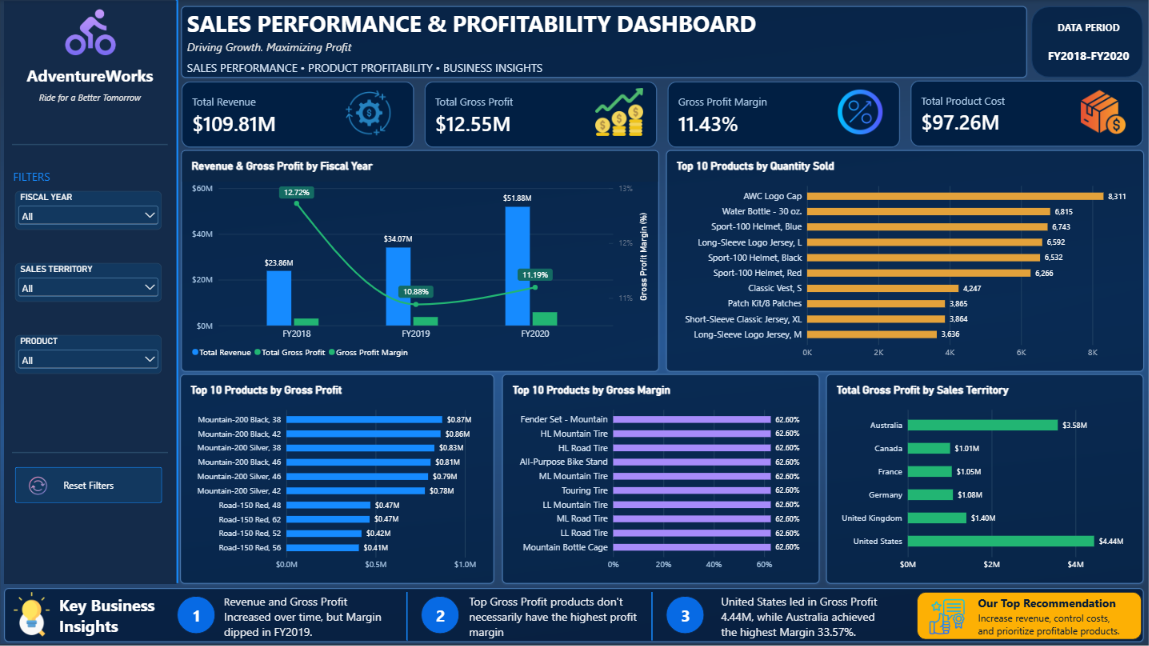

The dashboard page shown, as its layout file describes it:
{"tool":"powerbi","page":{"name":"Page 1","canvas":[1920,1080],"ordinal":0},"visuals":[{"type":"shape","title":"Side Bar","box":[7,1.7,288,973.5],"z":0,"group":"g9"},{"type":"shape","box":[301.4,10,1412.6,120.2],"z":0,"group":"g7"},{"type":"actionButton","box":[25,780,245.5,60],"z":0,"group":"g8"},{"type":"shape","box":[6.7,981.8,1903.5,90.2],"z":0,"group":"g6"},{"type":"shape","box":[1531.1,988.4,375.1,79.5],"z":0,"group":"g1"},{"type":"textbox","box":[97.9,992.6,182.3,70.3],"z":0,"group":"g5"},{"type":"textbox","box":[375,992.6,280.8,75.7],"z":0,"group":"g2"},{"type":"shape","box":[703.2,996.2,63.8,63.1],"z":0,"group":"g3"},{"type":"shape","box":[1111.7,996.2,63.8,63.1],"z":0,"group":"g4"},{"type":"textbox","box":[312,65.7,1390,30],"z":1000,"group":"g7"},{"type":"cardVisual","fields":{"Data":["Sales_data (2).Total Revenue"]},"box":[301.4,134.5,390,112],"z":1000},{"type":"image","box":[35,793.7,56.8,36],"z":1000,"group":"g8"},{"type":"group","id":"g1","title":"Group 1","box":[1531.1,988.4,375.1,79.5],"z":1000,"group":"g6"},{"type":"image","box":[11.5,988.9,82.2,74.5],"z":1000,"group":"g5"},{"type":"textbox","box":[1633.2,992.7,250.7,26.5],"z":1000,"group":"g1"},{"type":"shape","box":[296.2,996.2,63.8,63.1],"z":1000,"group":"g2"},{"type":"textbox","box":[717.8,1008.8,35.1,39.7],"z":1000,"group":"g3"},{"type":"textbox","box":[1126.3,1008.8,35.1,39.7],"z":1000,"group":"g4"},{"type":"textbox","box":[311.4,100,1390,25],"z":2000,"group":"g7"},{"type":"cardVisual","fields":{"Data":["Sum(Sales_data (2).Total Product Cost)"]},"box":[1520,134,390,112],"z":2000},{"type":"group","id":"g2","title":"Group 2","box":[296.2,992.6,359.6,75.7],"z":2000,"group":"g6"},{"type":"textbox","box":[783.4,992.6,280.8,75.7],"z":2000,"group":"g3"},{"type":"textbox","box":[1202.9,992.6,280.8,75.7],"z":2000,"group":"g4"},{"type":"textbox","box":[311.2,1008.8,35.1,39.7],"z":2000,"group":"g2"},{"type":"textbox","box":[1633.2,1019.9,251.2,43.1],"z":2000,"group":"g1"},{"type":"textbox","box":[311.4,13.3,1390,51.8],"z":3000,"group":"g7"},{"type":"cardVisual","fields":{"Data":["Sales_data (2).Total Gross Profit"]},"box":[707.6,134.5,390,112],"z":3000},{"type":"group","id":"g3","title":"Group 3","box":[703.2,992.6,361,75.7],"z":3000,"group":"g6"},{"type":"image","box":[1543.6,999.7,73.6,58.9],"z":3000,"group":"g1"},{"type":"cardVisual","fields":{"Data":["Sales_data (2).Gross Profit Margin"]},"box":[1113.8,134.5,390,112],"z":4000},{"type":"group","id":"g4","title":"Group 4","box":[1111.7,992.6,372,75.7],"z":4000,"group":"g6"},{"type":"lineClusteredColumnComboChart","title":"Revenue & Gross Profit by Fiscal Year","fields":{"Category":["Date_data.Fiscal Year"],"Y":["Sales_data (2).Total Revenue","Sales_data (2).Total Gross Profit"],"Y2":["Sales_data (2).Gross Profit Margin"]},"box":[301.4,250,798,370],"z":5000},{"type":"group","id":"g5","title":"Group 5","box":[11.5,988.9,268.7,74.5],"z":5000,"group":"g6"},{"type":"clusteredBarChart","title":"Top 10 Products by Gross Profit","fields":{"Category":["Product_data.Product"],"Y":["Sales_data (2).Total Gross Profit"]},"box":[301,624.4,525,350],"z":6000},{"type":"shape","box":[669,988,20,80.8],"z":6000,"group":"g6"},{"type":"clusteredBarChart","title":"Top 10 Products by Gross Margin","fields":{"Category":["Product_data.Product"],"Y":["Sales_data (2).Total Gross Margin"]},"box":[838,624.4,530,350],"z":7000},{"type":"shape","box":[1079.2,988,20,80.8],"z":7000,"group":"g6"},{"type":"clusteredBarChart","title":"Top 10 Products by Quantity Sold","fields":{"Category":["Product_data.Product"],"Y":["Sales_data (2).Total Quantity Sold"]},"box":[1112,250,798,370],"z":8000},{"type":"shape","title":"Vertical Line","box":[287.2,0,16.7,973.5],"z":9000},{"type":"textbox","box":[25,106.3,250,41.4],"z":10000,"group":"g9"},{"type":"textbox","box":[25,151.2,250,28],"z":11000,"group":"g9"},{"type":"shape","box":[1721.8,10,187.3,120],"z":12000},{"type":"textbox","box":[1743.6,34.5,149.1,36.4],"z":13000},{"type":"textbox","box":[1743.6,80,149.1,34.5],"z":14000},{"type":"clusteredBarChart","title":"Total Gross Profit by Sales Territory","fields":{"Category":["Territory_data.Country"],"Y":["Sales_data (2).Total Gross Profit"]},"box":[1380,624.5,530,350],"z":15000},{"type":"image","box":[984,147,100,80],"z":16000},{"type":"image","box":[1386,147,100,80],"z":17000},{"type":"image","box":[1792,147,100,80],"z":18000},{"type":"image","box":[564,148,100,80],"z":19000},{"type":"image","box":[25,11.7,252.1,91.8],"z":20000,"group":"g9"},{"type":"group","id":"g6","title":"Group 6","box":[6.7,981.8,1903.5,90.2],"z":21000},{"type":"group","id":"g7","title":"Group 7","box":[301.4,10,1412.6,120.2],"z":22000},{"type":"slicer","fields":{"Values":["Date_data.Fiscal Year"]},"box":[25,319.2,245,65],"z":23000,"group":"g9"},{"type":"textbox","box":[21.7,281.4,68.5,25],"z":24000,"group":"g9"},{"type":"slicer","fields":{"Values":["Product_data.Product"]},"box":[25,559.4,245,65],"z":25000,"group":"g9"},{"type":"slicer","fields":{"Values":["Territory_data.Region"]},"box":[25,439.3,245,65],"z":26000,"group":"g9"},{"type":"shape","box":[20,233.8,260,15],"z":27000,"group":"g9"},{"type":"shape","box":[20,748.1,260.5,15],"z":28000,"group":"g9"},{"type":"group","id":"g8","title":"Group 8","box":[25,780,245.5,60],"z":29000,"group":"g9"},{"type":"group","id":"g9","title":"Group 9","box":[7,1.7,288,973.5],"z":29001}]}

Visuals, with their boxes in screenshot pixels (x1, y1, x2, y2), scaled from the page's 1920x1080 canvas onto the 1149x646 screenshot:
"Side Bar" shape: left=4, top=1, right=177, bottom=583
shape: left=180, top=6, right=1026, bottom=78
actionButton: left=15, top=467, right=162, bottom=502
shape: left=4, top=587, right=1143, bottom=641
shape: left=916, top=591, right=1141, bottom=639
textbox: left=59, top=594, right=168, bottom=636
textbox: left=224, top=594, right=392, bottom=639
shape: left=421, top=596, right=459, bottom=634
shape: left=665, top=596, right=703, bottom=634
textbox: left=187, top=39, right=1019, bottom=57
cardVisual - Sales_data (2).Total Revenue: left=180, top=80, right=414, bottom=147
image: left=21, top=475, right=55, bottom=496
"Group 1" group: left=916, top=591, right=1141, bottom=639
image: left=7, top=592, right=56, bottom=636
textbox: left=977, top=594, right=1127, bottom=610
shape: left=177, top=596, right=215, bottom=634
textbox: left=430, top=603, right=451, bottom=627
textbox: left=674, top=603, right=695, bottom=627
textbox: left=186, top=60, right=1018, bottom=75
cardVisual - Sum(Sales_data (2).Total Product Cost): left=910, top=80, right=1143, bottom=147
"Group 2" group: left=177, top=594, right=392, bottom=639
textbox: left=469, top=594, right=637, bottom=639
textbox: left=720, top=594, right=888, bottom=639
textbox: left=186, top=603, right=207, bottom=627
textbox: left=977, top=610, right=1128, bottom=636
textbox: left=186, top=8, right=1018, bottom=39
cardVisual - Sales_data (2).Total Gross Profit: left=423, top=80, right=657, bottom=147
"Group 3" group: left=421, top=594, right=637, bottom=639
image: left=924, top=598, right=968, bottom=633
cardVisual - Sales_data (2).Gross Profit Margin: left=667, top=80, right=900, bottom=147
"Group 4" group: left=665, top=594, right=888, bottom=639
"Revenue & Gross Profit by Fiscal Year" lineClusteredColumnComboChart: left=180, top=150, right=658, bottom=371
"Group 5" group: left=7, top=592, right=168, bottom=636
"Top 10 Products by Gross Profit" clusteredBarChart: left=180, top=373, right=494, bottom=583
shape: left=400, top=591, right=412, bottom=639
"Top 10 Products by Gross Margin" clusteredBarChart: left=501, top=373, right=819, bottom=583
shape: left=646, top=591, right=658, bottom=639
"Top 10 Products by Quantity Sold" clusteredBarChart: left=665, top=150, right=1143, bottom=371
"Vertical Line" shape: left=172, top=0, right=182, bottom=582
textbox: left=15, top=64, right=165, bottom=88
textbox: left=15, top=90, right=165, bottom=107
shape: left=1030, top=6, right=1142, bottom=78
textbox: left=1043, top=21, right=1133, bottom=42
textbox: left=1043, top=48, right=1133, bottom=68
"Total Gross Profit by Sales Territory" clusteredBarChart: left=826, top=374, right=1143, bottom=583
image: left=589, top=88, right=649, bottom=136
image: left=829, top=88, right=889, bottom=136
image: left=1072, top=88, right=1132, bottom=136
image: left=338, top=89, right=397, bottom=136
image: left=15, top=7, right=166, bottom=62
"Group 6" group: left=4, top=587, right=1143, bottom=641
"Group 7" group: left=180, top=6, right=1026, bottom=78
slicer - Date_data.Fiscal Year: left=15, top=191, right=162, bottom=230
textbox: left=13, top=168, right=54, bottom=183
slicer - Product_data.Product: left=15, top=335, right=162, bottom=373
slicer - Territory_data.Region: left=15, top=263, right=162, bottom=302
shape: left=12, top=140, right=168, bottom=149
shape: left=12, top=447, right=168, bottom=456
"Group 8" group: left=15, top=467, right=162, bottom=502
"Group 9" group: left=4, top=1, right=177, bottom=583
